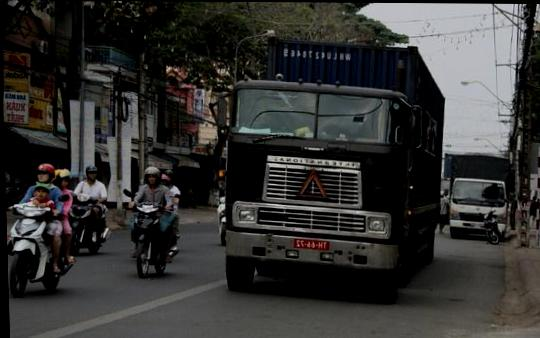License_Plate: (292, 234, 332, 251)
